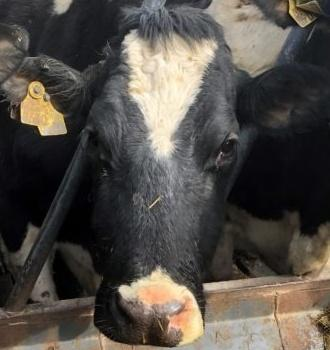muzzles: (90, 276, 207, 348)
